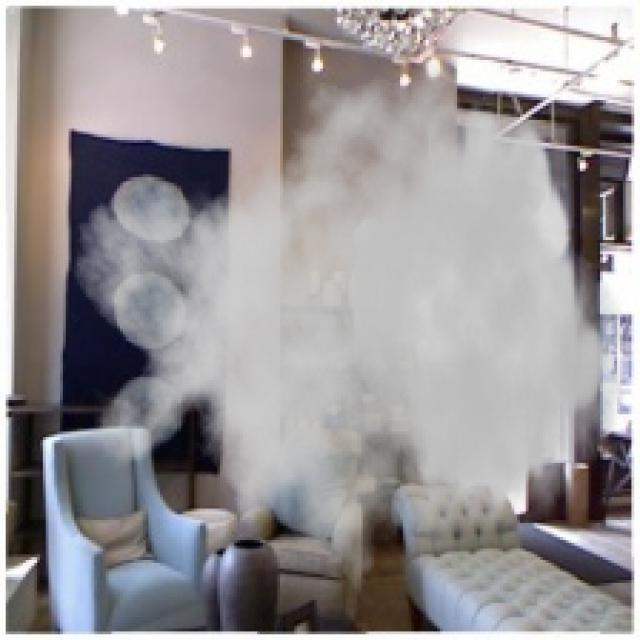Smoke: (71, 52, 626, 618)
